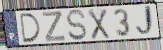3: (113, 8, 131, 38)
D: (18, 12, 42, 44)
J: (135, 4, 156, 39)
S: (65, 8, 88, 41)
X: (87, 8, 111, 41)
Z: (42, 11, 67, 43)
